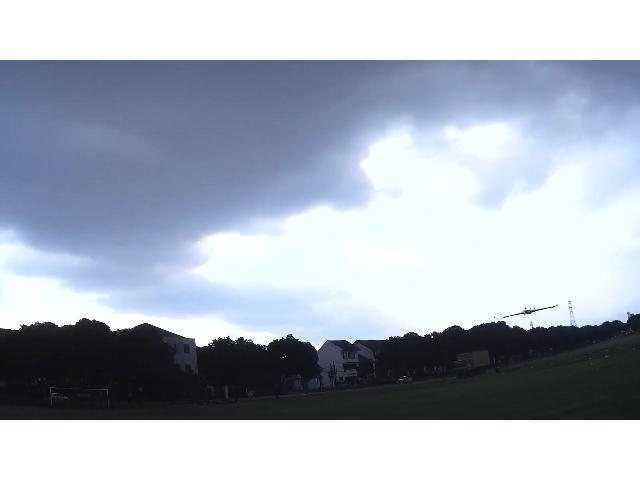Anti-Drone: (506, 305, 558, 317)
